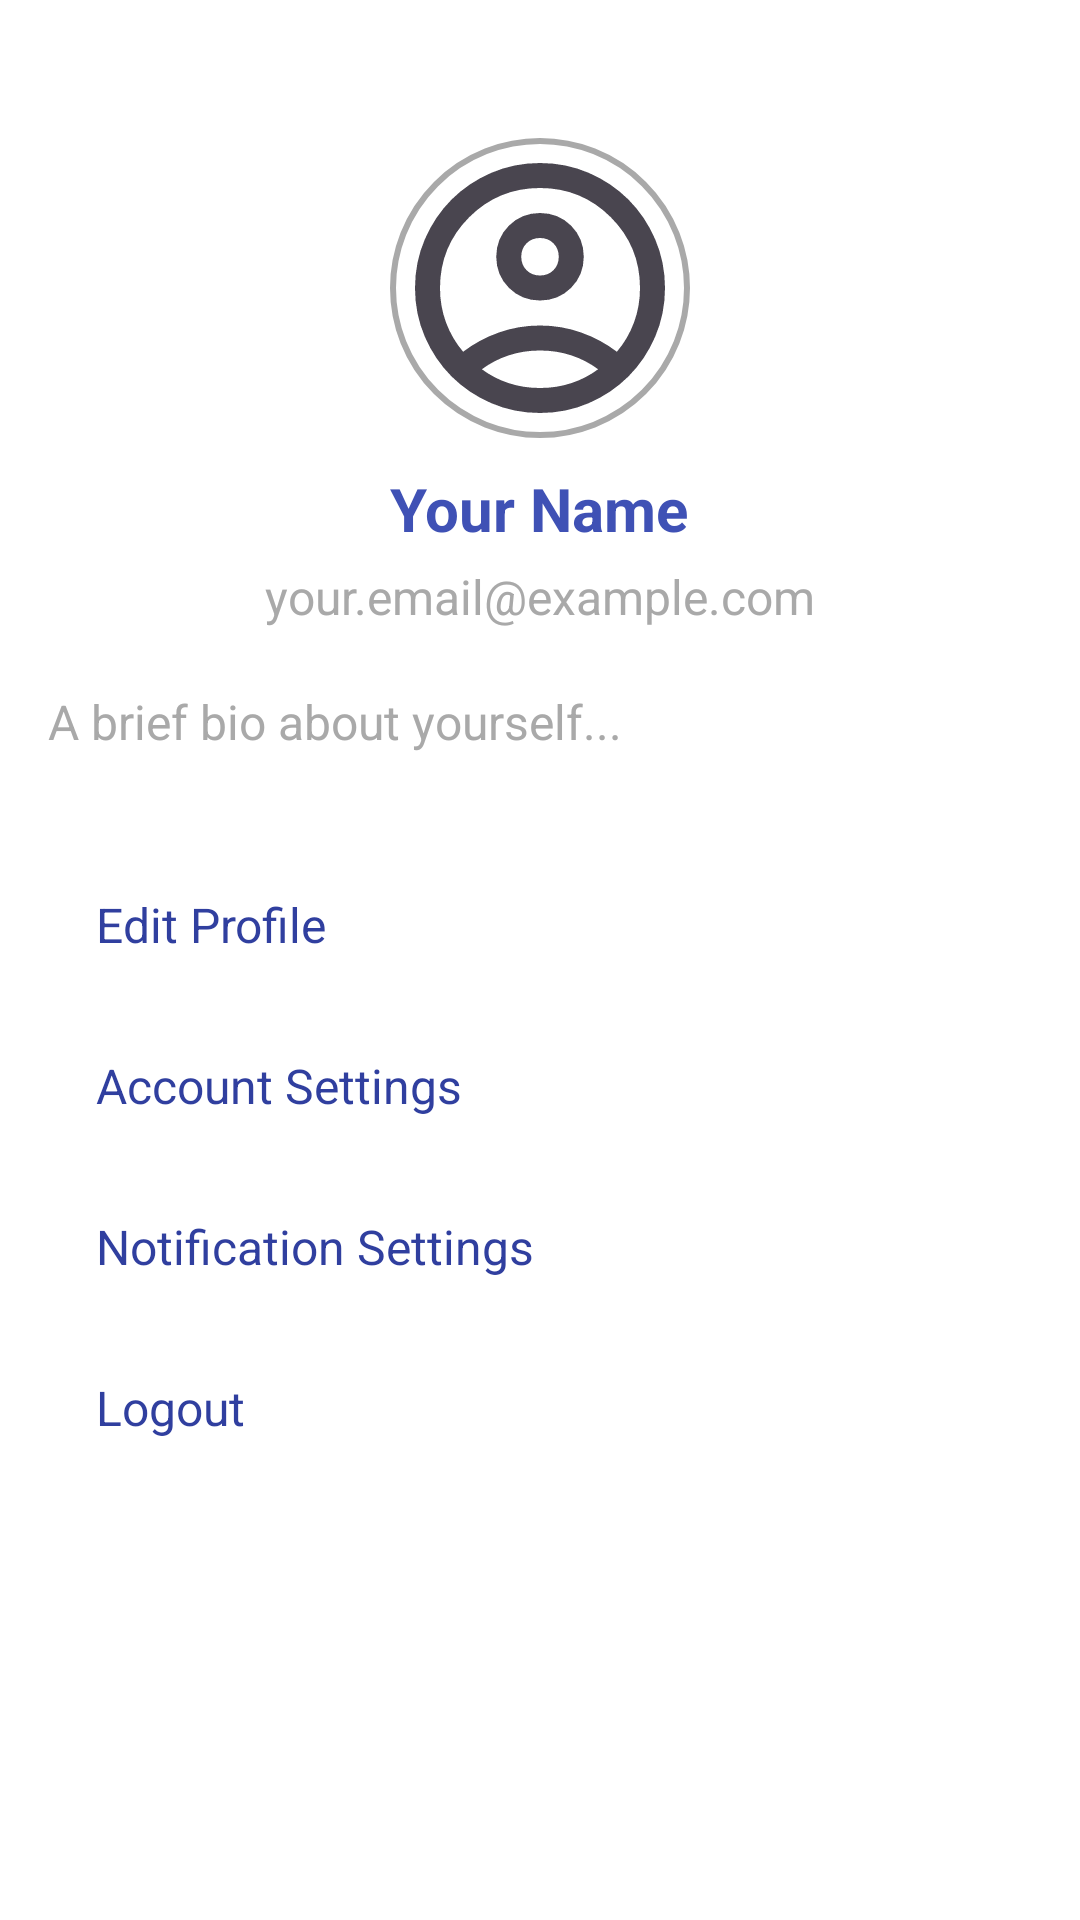

Locate icon controls on the screen. Image size 1080 x 1920, boxes as {"x1": x1, "y1": y1, "x2": x2, "y2": y2}.
Profile Picture: {"x1": 390, "y1": 138, "x2": 690, "y2": 438}
